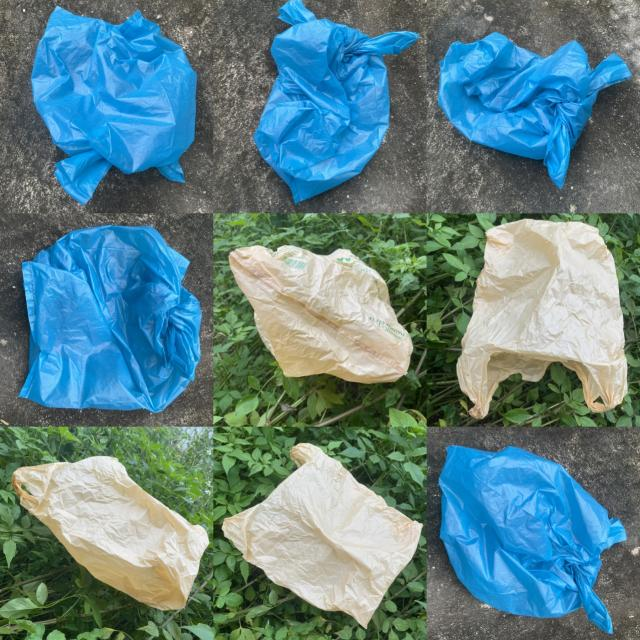Single-layer Plastic: (222, 444, 422, 627), (439, 445, 626, 633), (456, 219, 628, 419), (20, 225, 201, 412), (254, 0, 419, 204), (31, 6, 196, 203), (12, 456, 209, 610), (439, 32, 631, 188), (229, 245, 412, 383)
